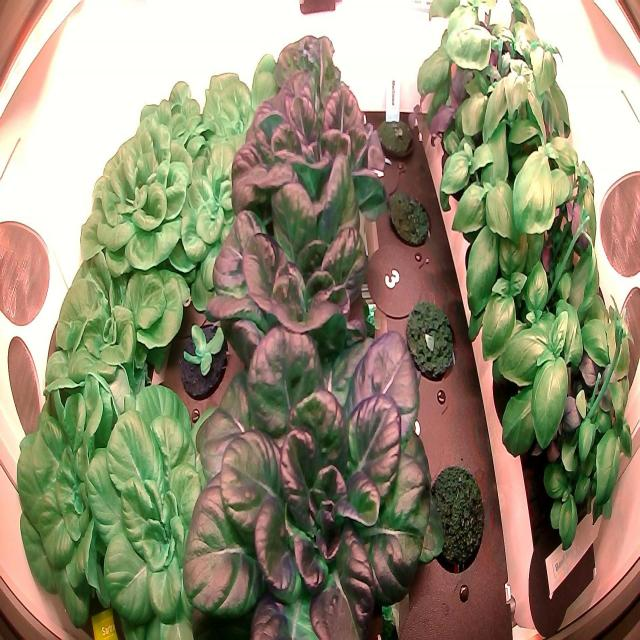Ready: (175, 301, 455, 640), (197, 148, 409, 386), (220, 67, 393, 268), (14, 364, 142, 629), (38, 236, 188, 458), (79, 117, 204, 296), (248, 16, 371, 162), (128, 69, 216, 192)
germination: (374, 104, 420, 169)
pod: (422, 461, 488, 578), (401, 292, 460, 388), (384, 180, 436, 253)
young: (78, 379, 244, 640), (160, 134, 263, 314), (192, 51, 295, 178), (174, 306, 234, 404)
